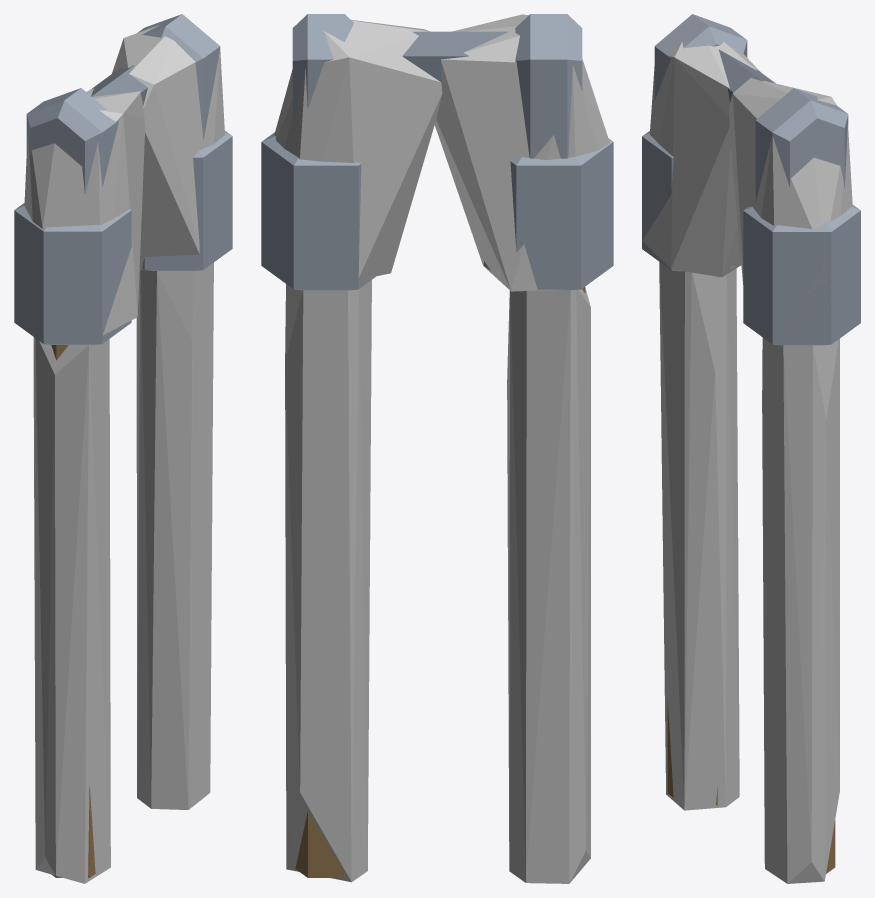
File: SM_Prop_Signal_Horn_01_Leg_02.fbx
3 renders of one model, left to right at view 1: azimuth 30°, elevation 25°; view 2: azimuth 150°, elevation 25°; view 3: azimuth 270°, elevation 25°, orthographic. The views are drawn at different scales.
Visible parts, largest first — view 1: SM_Prop_Signal_Horn_01_Leg_02_ConvexHulls, SM_Prop_Signal_Horn_01_Leg_02; view 2: SM_Prop_Signal_Horn_01_Leg_02_ConvexHulls, SM_Prop_Signal_Horn_01_Leg_02; view 3: SM_Prop_Signal_Horn_01_Leg_02_ConvexHulls, SM_Prop_Signal_Horn_01_Leg_02.
Boxes of the visible parts, x1,y1,x2,y2 form: SM_Prop_Signal_Horn_01_Leg_02_ConvexHulls: [24, 24, 224, 883]; SM_Prop_Signal_Horn_01_Leg_02: [14, 14, 232, 877]; SM_Prop_Signal_Horn_01_Leg_02_ConvexHulls: [274, 14, 609, 883]; SM_Prop_Signal_Horn_01_Leg_02: [261, 14, 613, 877]; SM_Prop_Signal_Horn_01_Leg_02_ConvexHulls: [642, 42, 852, 883]; SM_Prop_Signal_Horn_01_Leg_02: [642, 14, 860, 873].
Bounding box in the file's own units: 21.6 × 17.06 × 66.84.
Materials: 2 (1 with a texture image).
